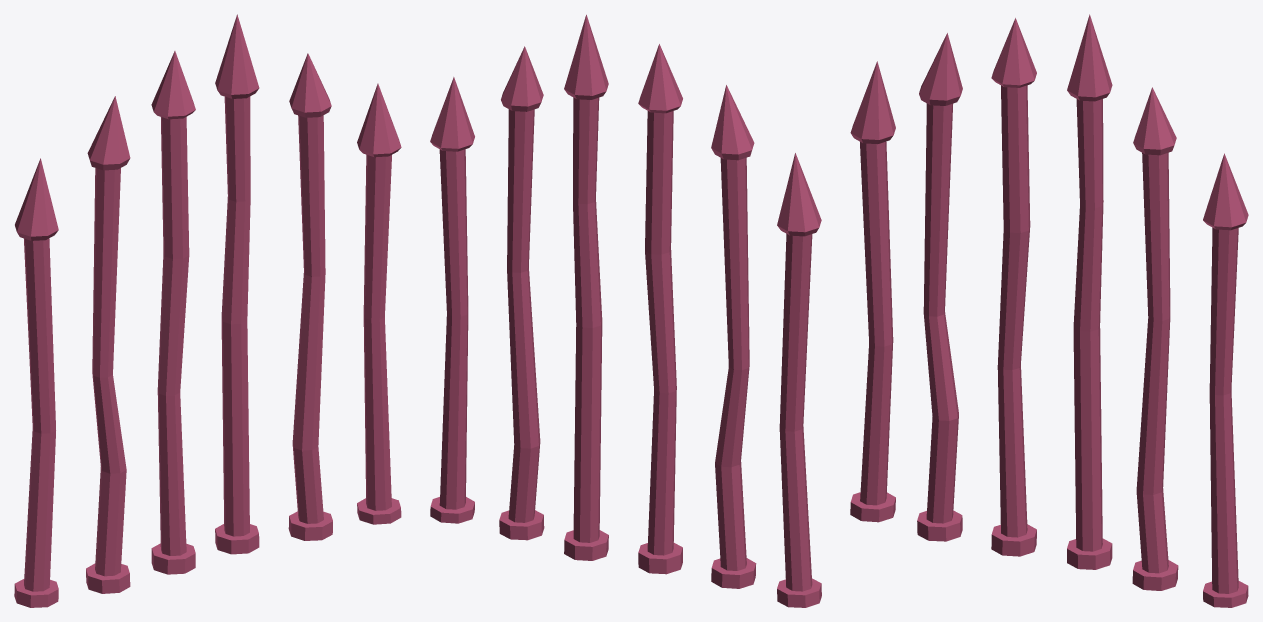
File: SM_HellGate.fbx
3 views of the same model, side by side, from view 1: azimuth 30°, elevation 25°; view 2: azimuth 150°, elevation 25°; view 3: azimuth 330°, elevation 25° (orthographic). The views are drawn at different scales.
Visible parts, largest first — view 1: Cylinder.004, Spike2, Spike1, Cylinder.005, Spike0, Cylinder.006, HellGate; view 2: Cylinder.004, Spike2, Spike1, Cylinder.005, Spike0, Cylinder.006, HellGate; view 3: Cylinder.004, Spike2, Spike1, Cylinder.005, Spike0, Cylinder.006, HellGate.
Boxes of the visible parts, x1,y1,x2,y2 form: Cylinder.004: (215,14,259,536); Spike2: (151,51,195,555); Spike1: (87,96,130,576); Cylinder.005: (289,53,331,523); Spike0: (15,158,58,591); Cylinder.006: (357,83,401,510); HellGate: (14,498,401,607); Cylinder.004: (564,14,608,542); Spike2: (638,44,682,555); Spike1: (711,85,754,570); Cylinder.005: (501,46,543,522); Spike0: (777,153,821,591); Cylinder.006: (430,77,474,509); HellGate: (430,497,821,607); Cylinder.004: (1067,14,1112,551); Spike2: (991,18,1036,537); Spike1: (919,33,962,523); Cylinder.005: (1133,87,1176,573); Spike0: (850,61,895,505); Cylinder.006: (1203,153,1248,593); HellGate: (850,492,1248,607).
Size of the model in its own units: 99.08 by 131 by 13.92.
